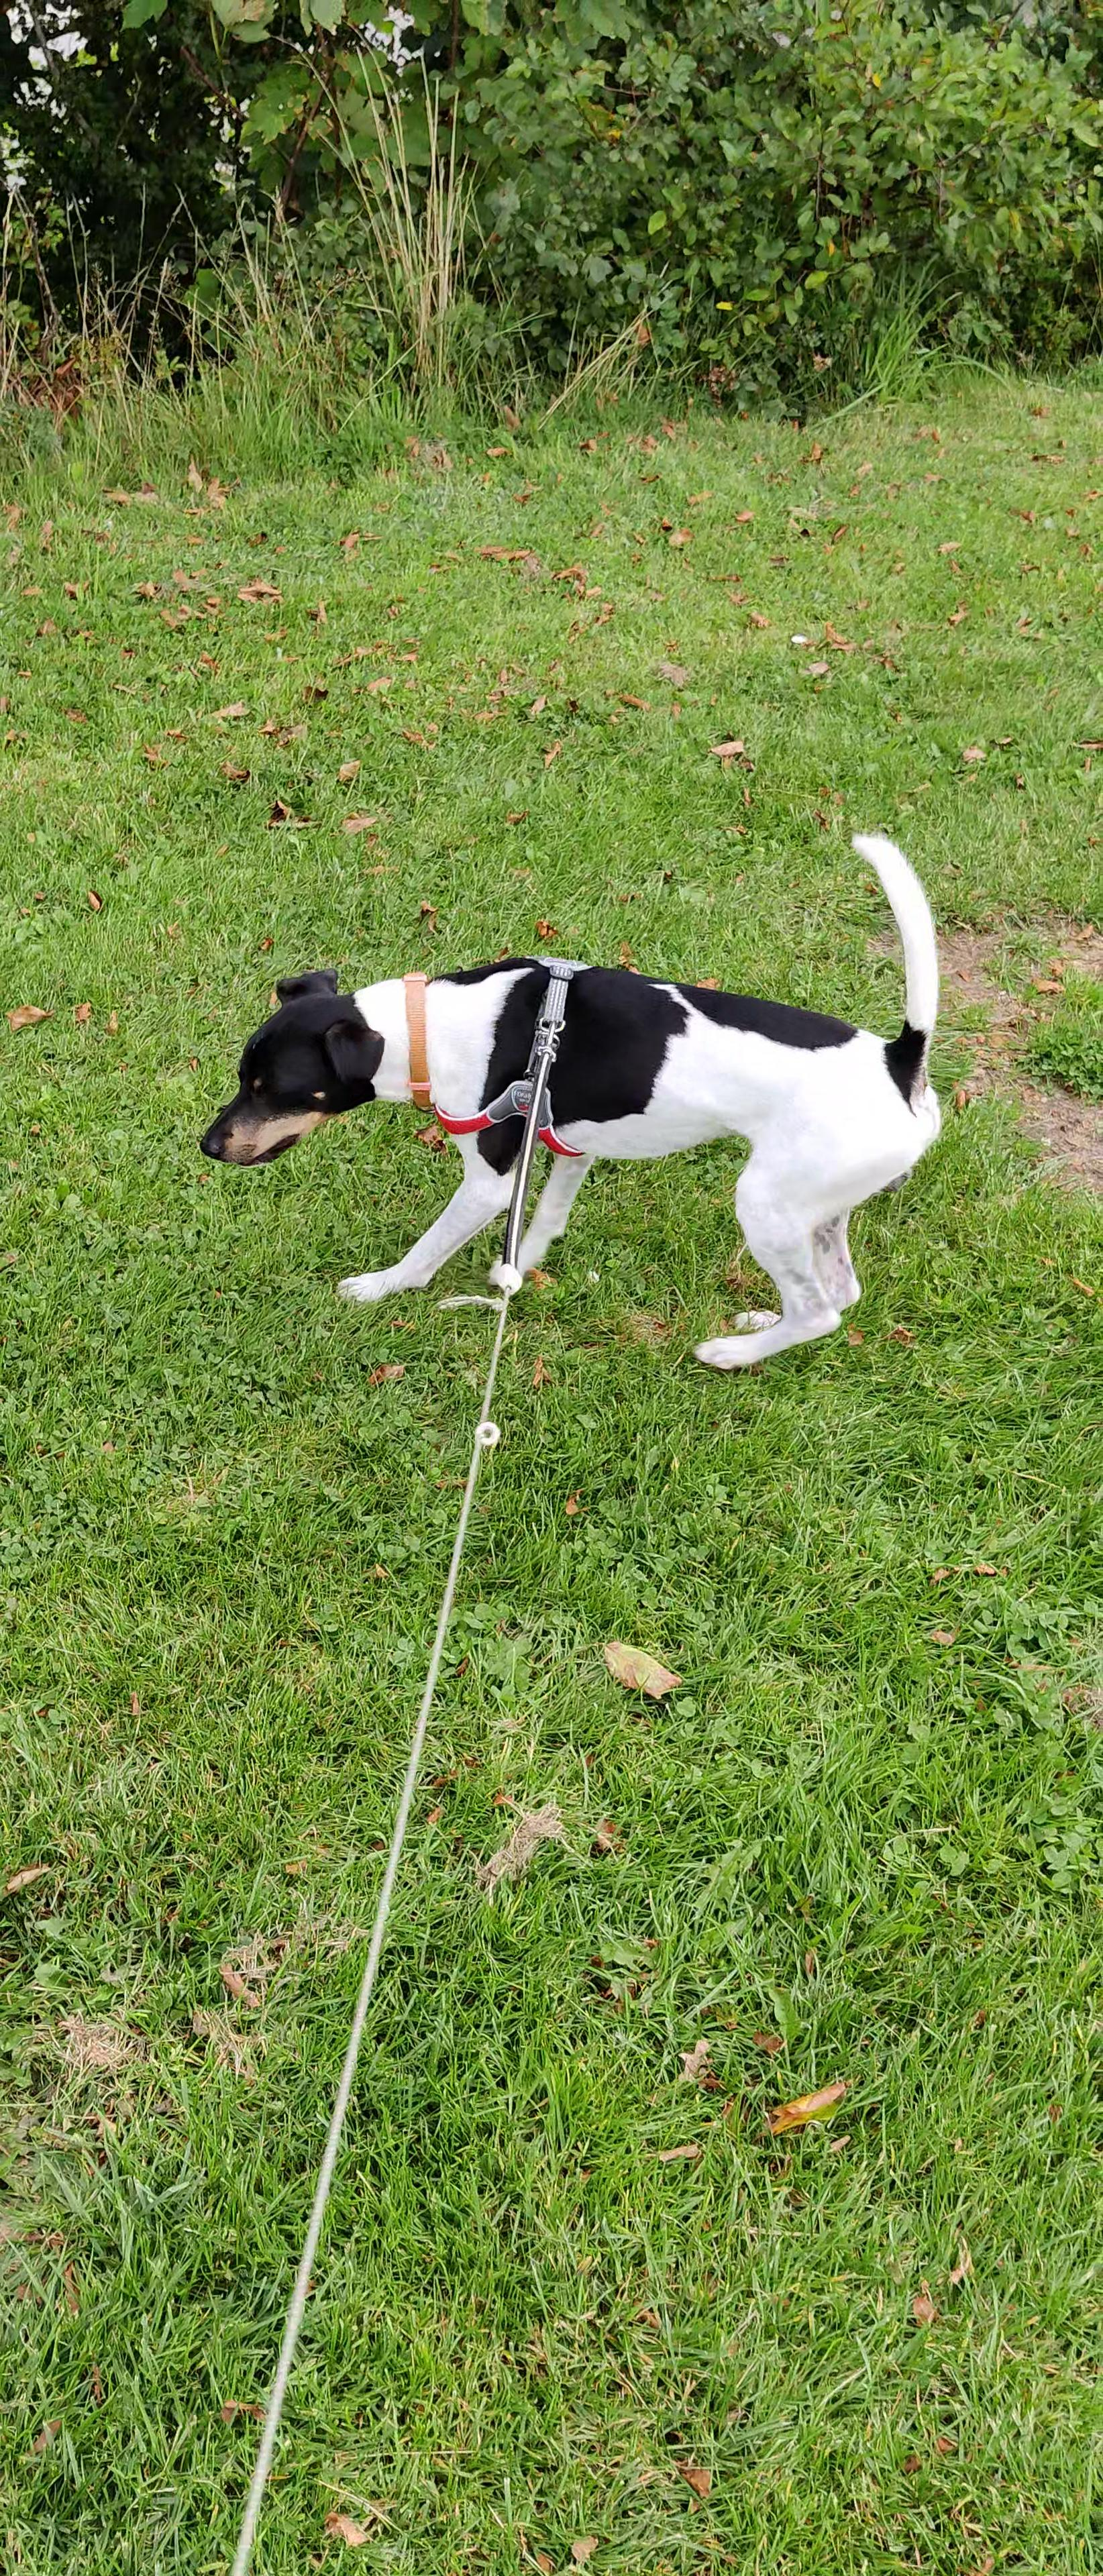Dog: (191, 820, 958, 1364)
